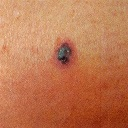Melanoma: (53, 42, 73, 63)
